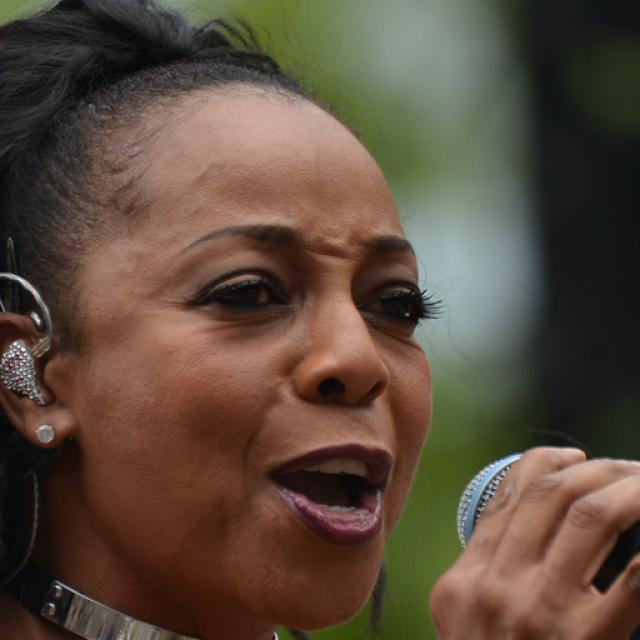anger: (76, 80, 436, 616)
